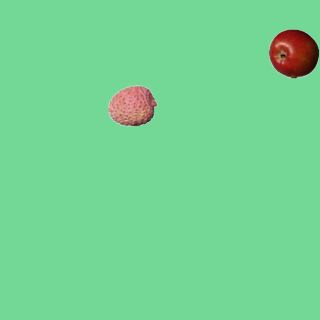Apple Braeburn: (268, 28, 318, 78)
Lychee: (107, 80, 157, 130)
